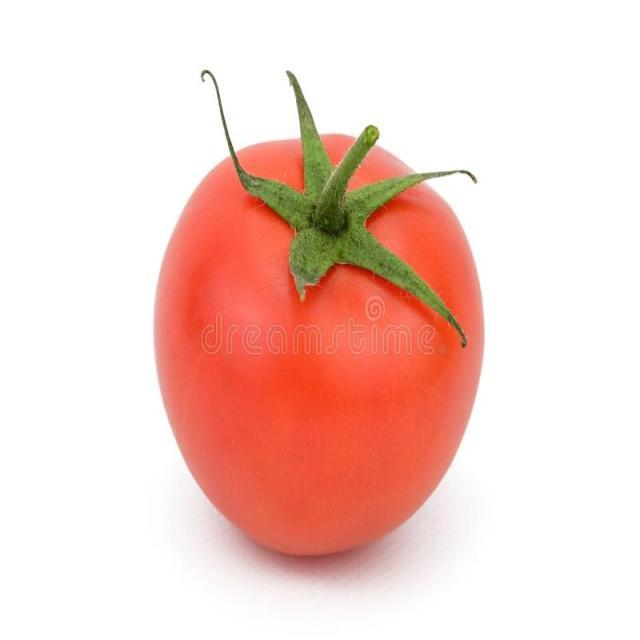kirmizi: (152, 128, 500, 560)
